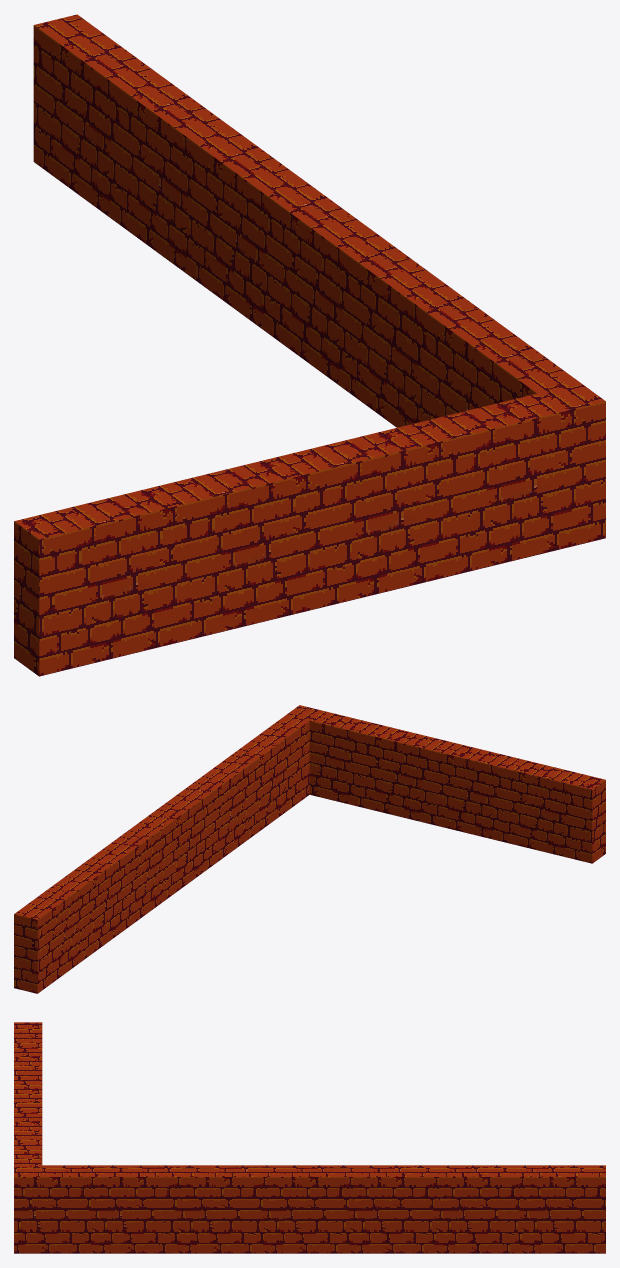
File: Wall.fbx
The picture shows the model from 3 angles, top to bottom: view 1: azimuth 30°, elevation 25°; view 2: azimuth 150°, elevation 25°; view 3: azimuth 270°, elevation 25°; orthographic projection. The views are drawn at different scales.
Visible parts, largest first — view 1: Wall; view 2: Wall; view 3: Wall.
Boxes of the visible parts, <box> form: Wall: <box>14,14,605,676</box>; Wall: <box>14,705,605,993</box>; Wall: <box>14,1022,605,1253</box>.
Size of the model in its own units: 2600 by 600 by 4200.
